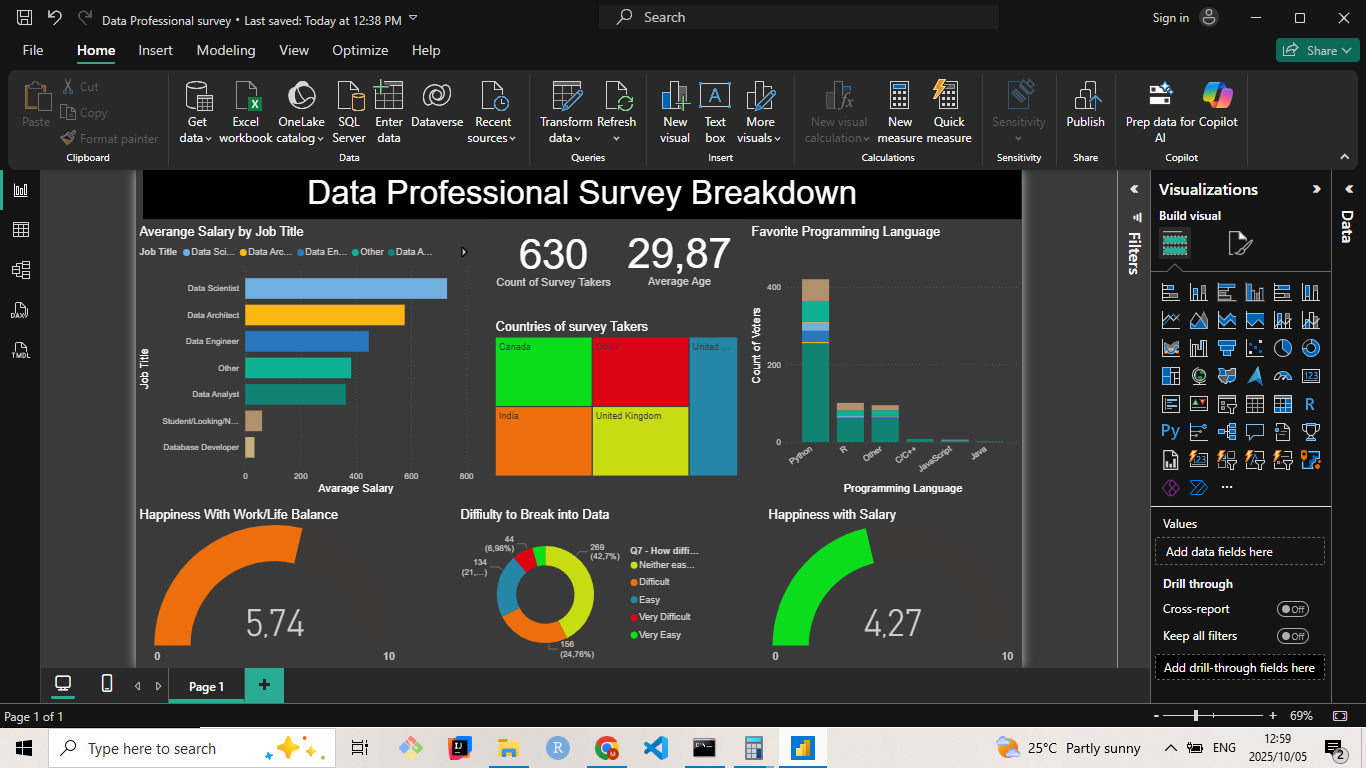

The dashboard page shown, as its layout file describes it:
{"tool":"powerbi","page":{"name":"Page 1","canvas":[1280,720],"ordinal":0},"visuals":[{"type":"textbox","box":[10.1,0,1269.9,70.6],"z":0},{"type":"card","fields":{"Values":["CountNonNull(Data Professional Survey.Unique ID)"]},"box":[511.3,70.5,183.7,108.7],"z":1000},{"type":"card","fields":{"Values":["Avg(Data Professional Survey.Q10 - Current Age)"]},"box":[695,70.5,180.7,107.3],"z":2000},{"type":"barChart","title":"Averange Salary by Job Title","fields":{"Category":["Data Professional Survey.Q1 - Which Title Best Fits your Current Role?.1"],"Y":["Avg(Data Professional Survey.Avarage Salary)"],"Series":["Data Professional Survey.Q1 - Which Title Best Fits your Current Role?.1"]},"box":[0,77.9,493.7,395.3],"z":3000},{"type":"columnChart","title":"Favorite Programming Language","fields":{"Category":["Data Professional Survey.Q5 - Favorite Programming Language.1"],"Y":["CountNonNull(Data Professional Survey.Unique ID)"],"Series":["Data Professional Survey.Q1 - Which Title Best Fits your Current Role?.1"]},"box":[884.6,77.9,395.3,395.3],"z":4000},{"type":"treemap","title":"Countries of survey Takers","fields":{"Values":["Count(Data Professional Survey.Q11 - Which Country do you live in?.1)"],"Group":["Data Professional Survey.Q11 - Which Country do you live in?.1"]},"box":[514.3,216,360,232.2],"z":5000},{"type":"gauge","title":"Happiness With Work/Life Balance","fields":{"Y":["Avg(Data Professional Survey.Q6 - How Happy are you in your Current Position with the following? (Work/Life Balance))"],"MinValue":["Min(Data Professional Survey.Q6 - How Happy are you in your Current Position with the following? (Work/Life Balance))"],"MaxValue":["Max(Data Professional Survey.Q6 - How Happy are you in your Current Position with the following? (Work/Life Balance))1"]},"box":[0,487.8,401.1,232.2],"z":6000},{"type":"gauge","title":"Happiness with Salary","fields":{"Y":["Avg(Data Professional Survey.Q6 - How Happy are you in your Current Position with the following? (Salary))"],"MinValue":["Min(Data Professional Survey.Q6 - How Happy are you in your Current Position with the following? (Salary))"],"MaxValue":["Max(Data Professional Survey.Q6 - How Happy are you in your Current Position with the following? (Salary))"]},"box":[909.6,487.8,370.3,232.2],"z":7000},{"type":"donutChart","title":"Diffiulty to Break into Data","fields":{"Category":["Data Professional Survey.Q7 - How difficult was it for you to break into Data?"],"Y":["CountNonNull(Data Professional Survey.Q7 - How difficult was it for you to break into Data?)"]},"box":[464.3,487.8,361.5,232.2],"z":8000}]}

Visuals, with their boxes on the page's 1280x720 design canvas (x1, y1, x2, y2). These are canvas units, not pixel positions in the 1366x768 screenshot, which may show the page scaled, cropped or inside an application window:
textbox: Rect(10, 0, 1280, 71)
card - CountNonNull(Data Professional Survey.Unique ID): Rect(511, 70, 695, 179)
card - Avg(Data Professional Survey.Q10 - Current Age): Rect(695, 70, 876, 178)
"Averange Salary by Job Title" barChart: Rect(0, 78, 494, 473)
"Favorite Programming Language" columnChart: Rect(885, 78, 1280, 473)
"Countries of survey Takers" treemap: Rect(514, 216, 874, 448)
"Happiness With Work/Life Balance" gauge: Rect(0, 488, 401, 720)
"Happiness with Salary" gauge: Rect(910, 488, 1280, 720)
"Diffiulty to Break into Data" donutChart: Rect(464, 488, 826, 720)
